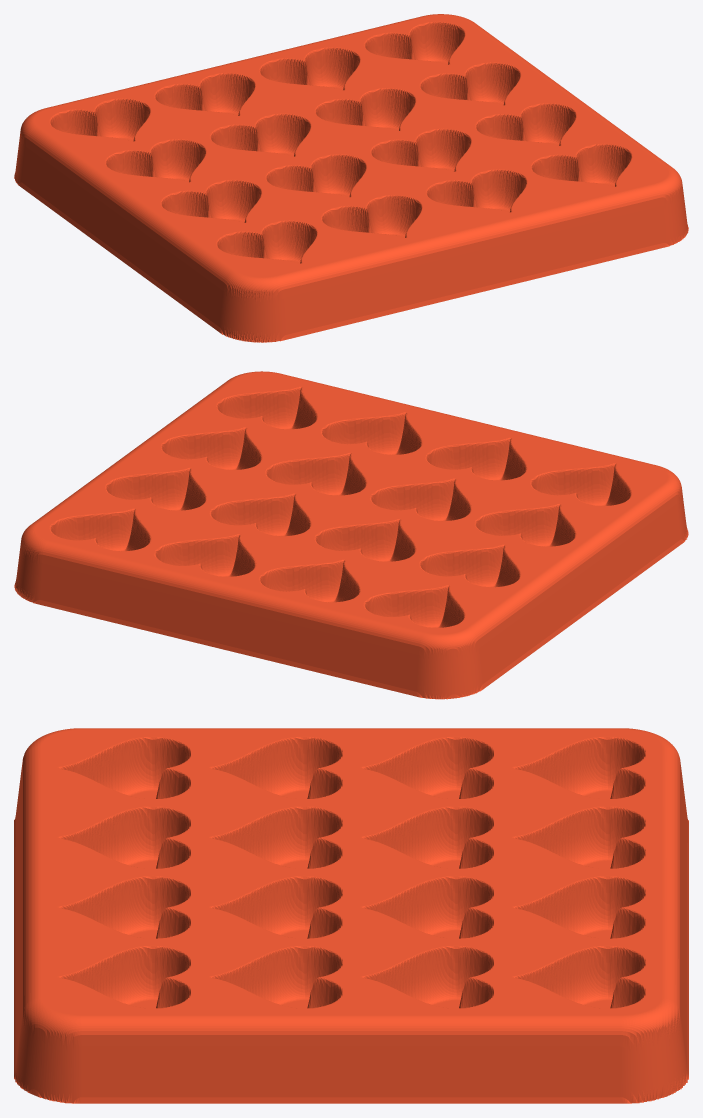
File: mold.glb
3 views of the same model, one above another, from view 1: azimuth 30°, elevation 25°; view 2: azimuth 150°, elevation 25°; view 3: azimuth 270°, elevation 25° (orthographic). The views are drawn at different scales.
Parts seen in each view (by area): view 1: geometry_0; view 2: geometry_0; view 3: geometry_0.
Part boxes in pixels (box(x1,y1,x2,y2)): geometry_0: box(14, 14, 688, 342); geometry_0: box(14, 371, 688, 699); geometry_0: box(14, 728, 688, 1103).
Bounding box in the file's own units: 0.0972 × 0.0114 × 0.09.
